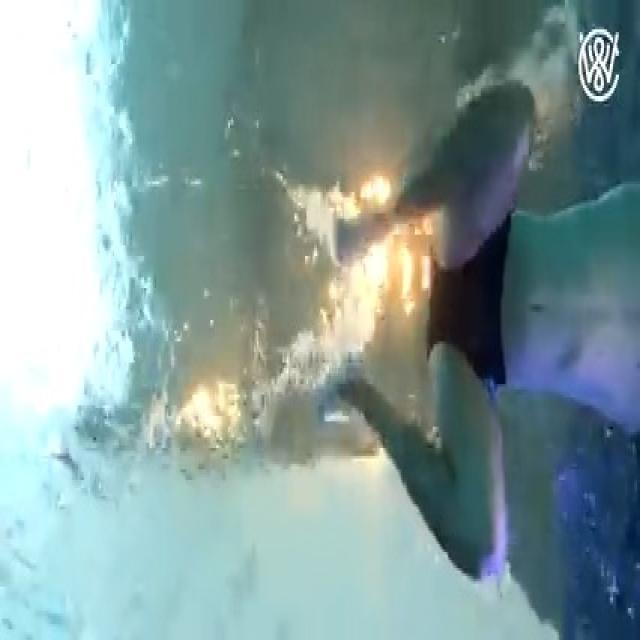Swimming: (302, 120, 640, 559)
